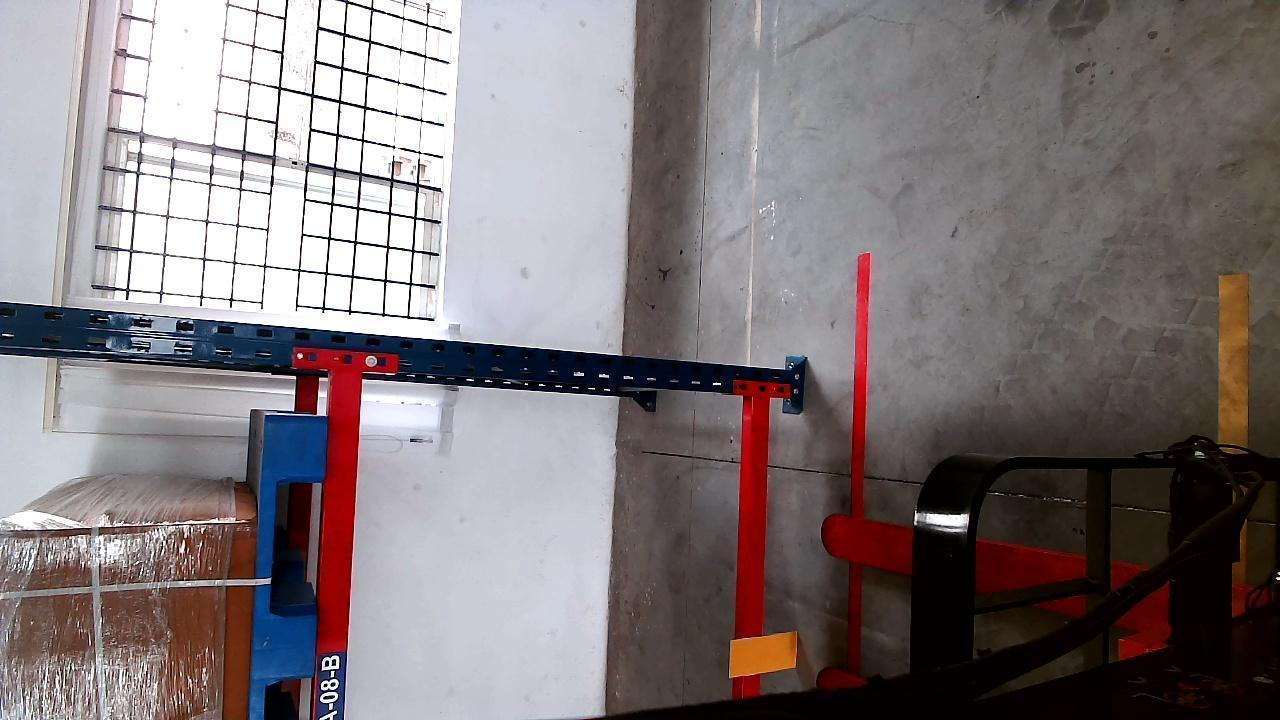red_line: (850, 253, 879, 668)
yellow_line: (1218, 270, 1247, 439)
